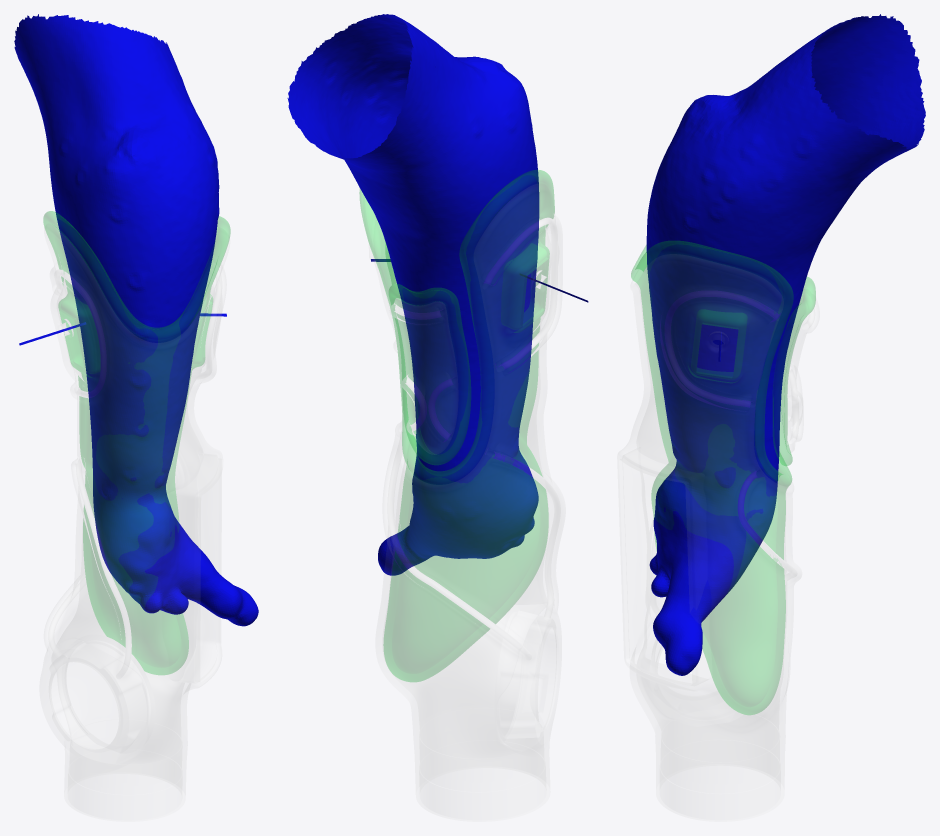
Rendered from Buter3.glb.
The picture shows the model from 3 angles, left to right: view 1: azimuth 30°, elevation 25°; view 2: azimuth 150°, elevation 25°; view 3: azimuth 270°, elevation 25°; orthographic projection. The views are drawn at different scales.
Parts seen in each view (by area): view 1: metki, InnerSocket, ExtSocketOBJ.001; view 2: metki, InnerSocket, ExtSocketOBJ.001, ISPart, ExtPart.001; view 3: metki, InnerSocket, ExtSocketOBJ.001, ISPart, ExtPart.001.
Boxes of the visible parts, x1,y1,x2,y2 form: metki: (14, 14, 258, 626); InnerSocket: (43, 211, 230, 674); ExtSocketOBJ.001: (47, 264, 222, 794); metki: (287, 14, 588, 575); InnerSocket: (359, 170, 554, 681); ExtSocketOBJ.001: (373, 214, 560, 791); ISPart: (389, 284, 470, 464); ExtPart.001: (394, 303, 452, 441); metki: (646, 14, 925, 675); InnerSocket: (631, 241, 793, 714); ExtSocketOBJ.001: (620, 283, 797, 789); ISPart: (773, 277, 815, 465); ExtPart.001: (788, 308, 814, 439).
Size of the model in its own units: 97.9 by 324 by 116.
